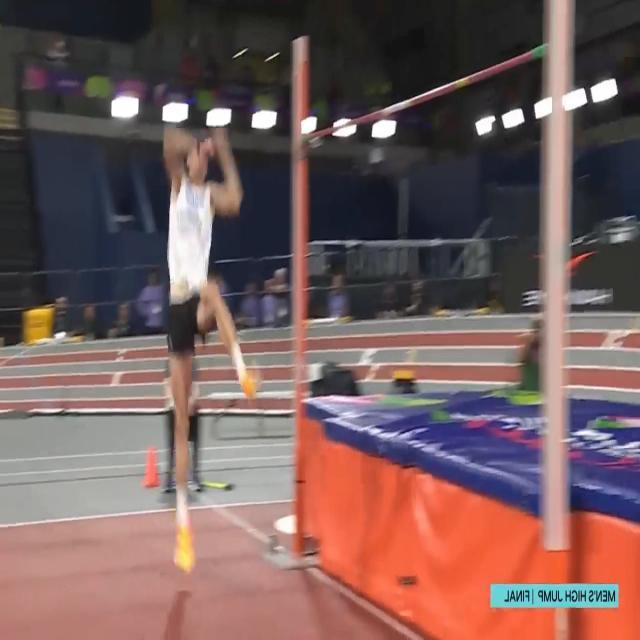jump: (164, 112, 260, 569)
